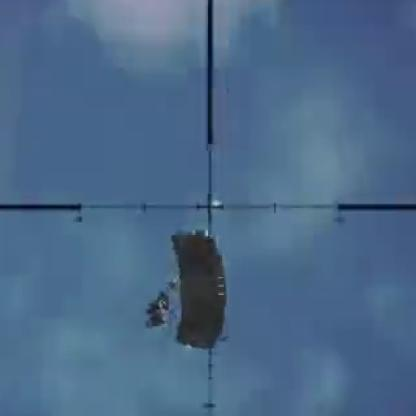enemy: (144, 288, 173, 328)
